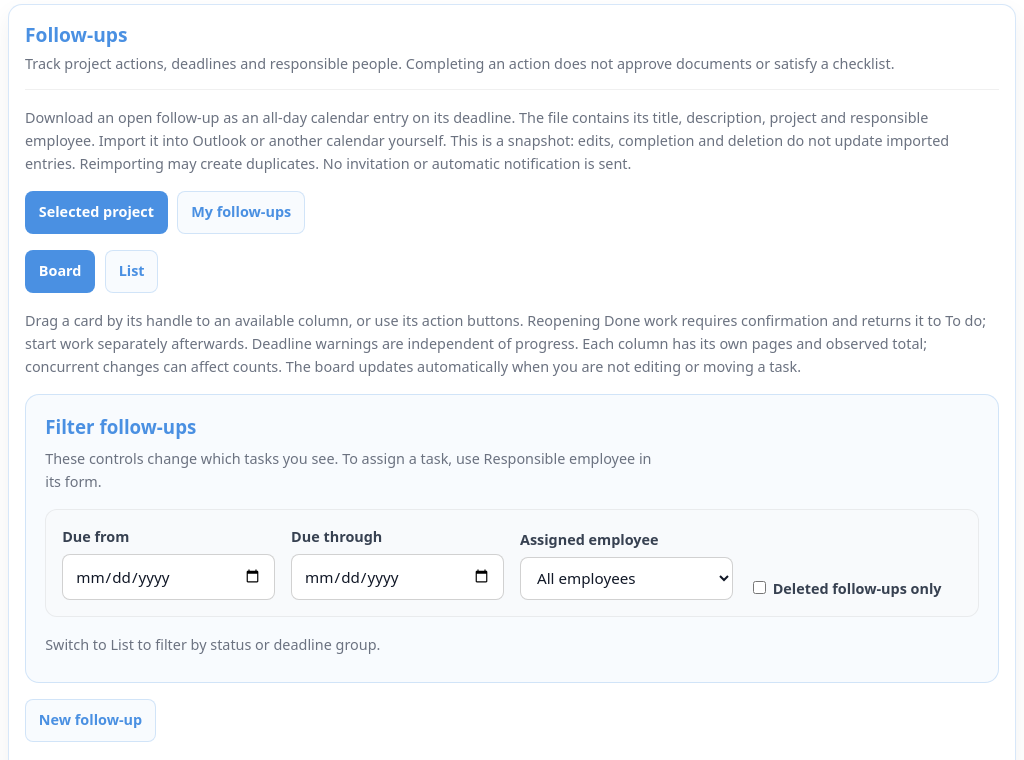
Test: reassignment revokes retry capability without losing the intended action
This screenshot has width=1024, height=760.
Click the button "Board": {"x": 60, "y": 271} [25, 250, 95, 293]
(page scrolled)
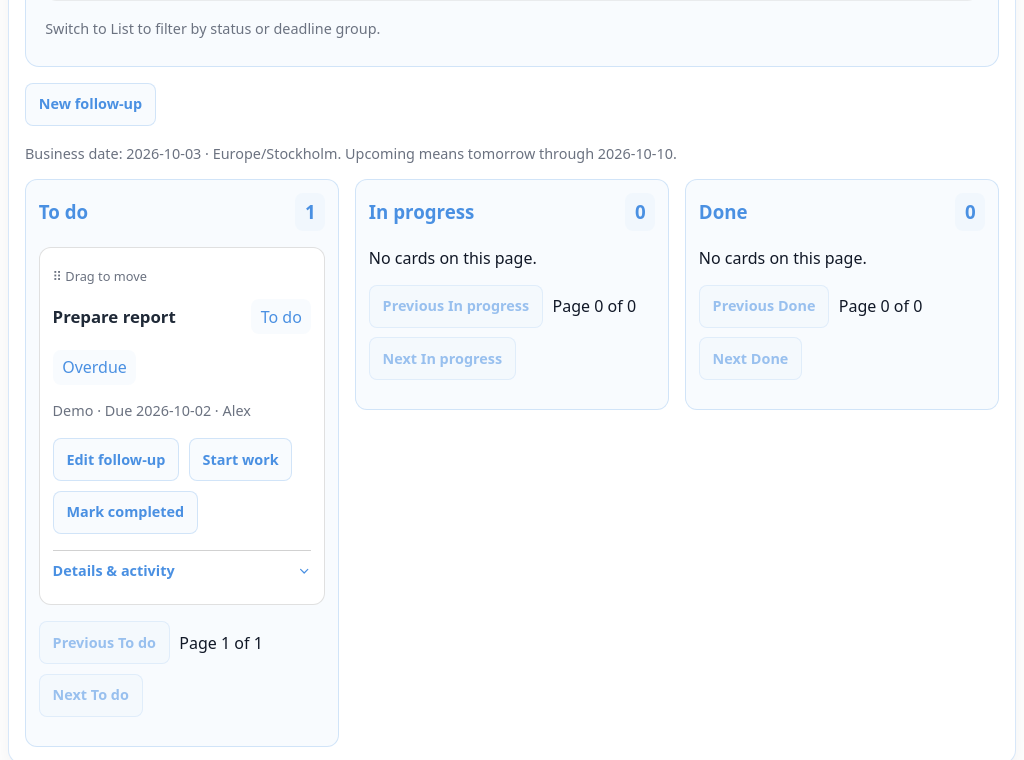
Expected: the button "New follow-up" is enabled, [25, 83, 156, 126]
Click the button "Start work": {"x": 241, "y": 460} [189, 438, 292, 481]
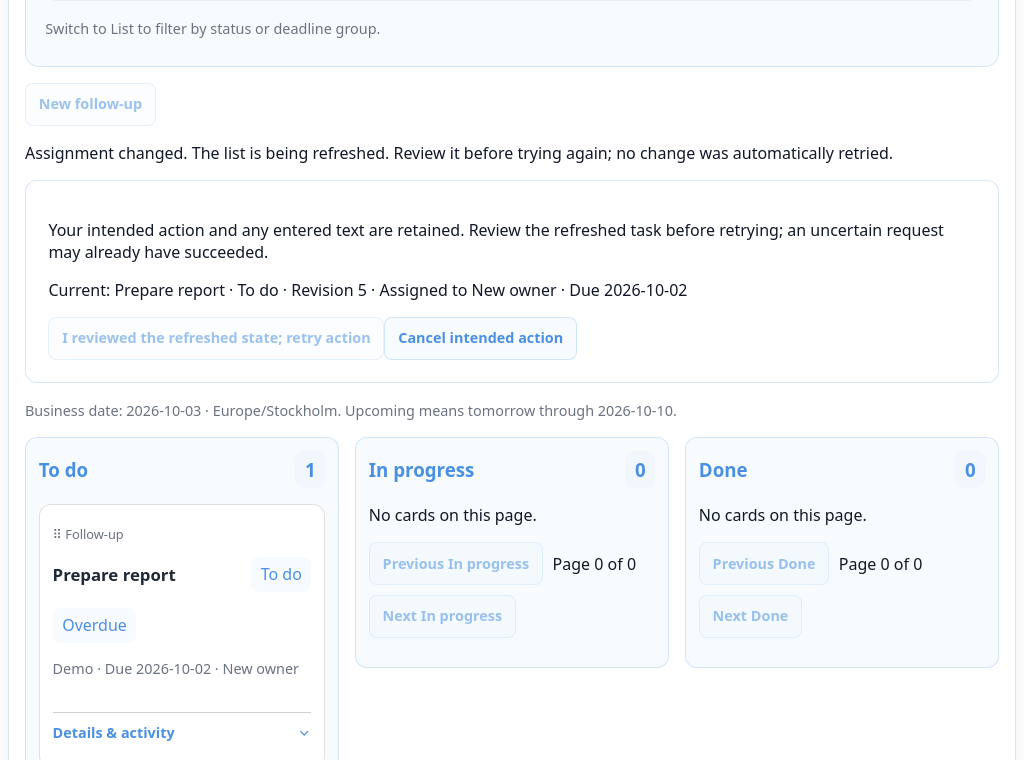
Expected: the text "Assignment changed" is shown, [25, 142, 893, 164]
Expected: the element named "Review failed follow-up action" shows "New owner", [472, 279, 557, 301]
Expected: the button "I reviewed the refreshed state; retry action" is disabled, [48, 317, 384, 360]
